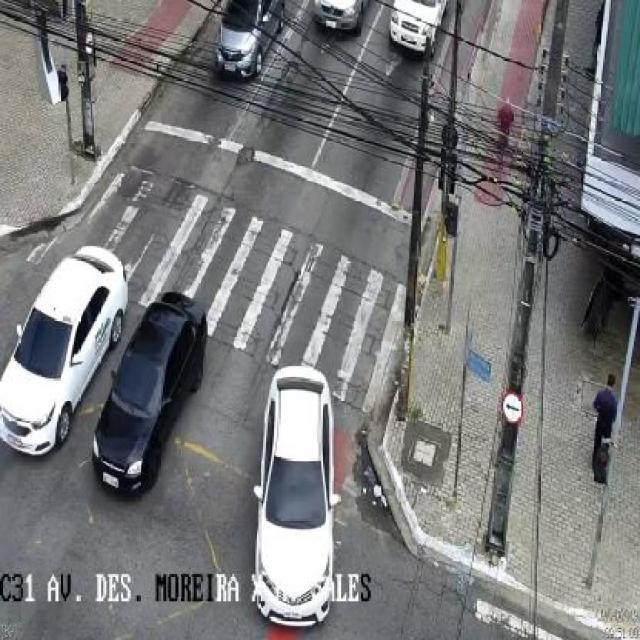Car: (0, 245, 131, 455), (90, 294, 210, 497), (252, 366, 338, 629)
